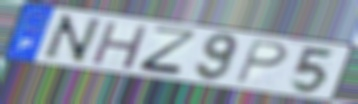5: (286, 45, 339, 95)
9: (192, 31, 240, 84)
H: (88, 19, 152, 72)
N: (38, 13, 105, 66)
P: (234, 38, 290, 85)
Z: (135, 24, 202, 79)
